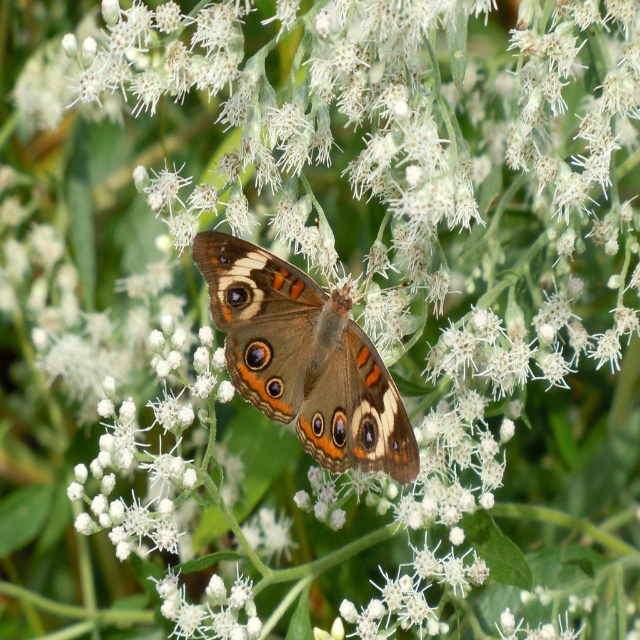Butterfly: (191, 228, 421, 486)
